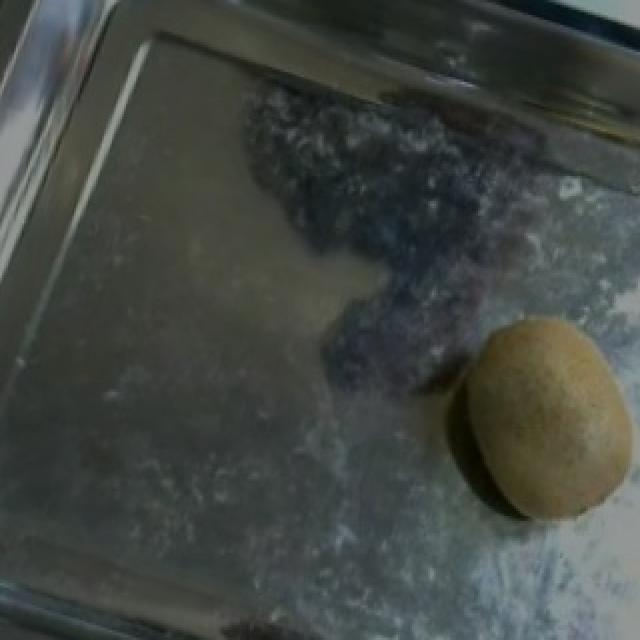Fruit: (426, 288, 640, 538)
